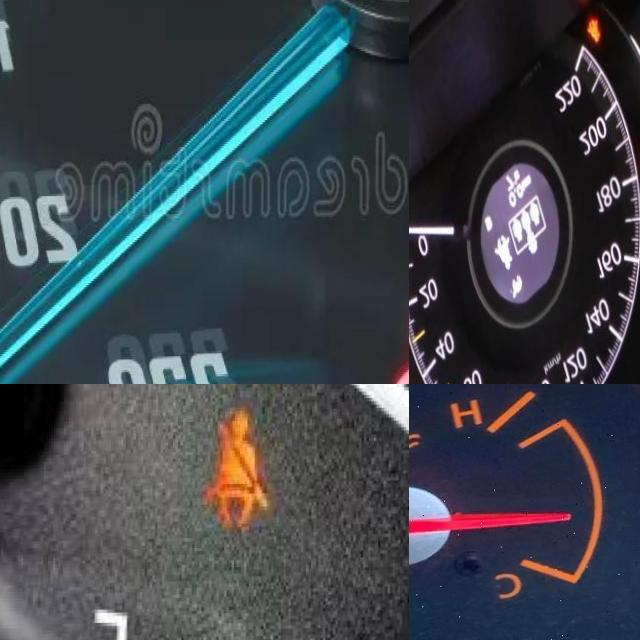Seat Belt: (208, 412, 273, 527)
